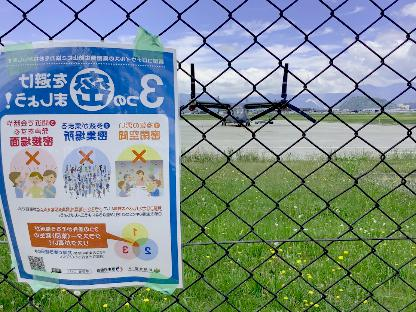Tornado: (179, 63, 317, 127)
